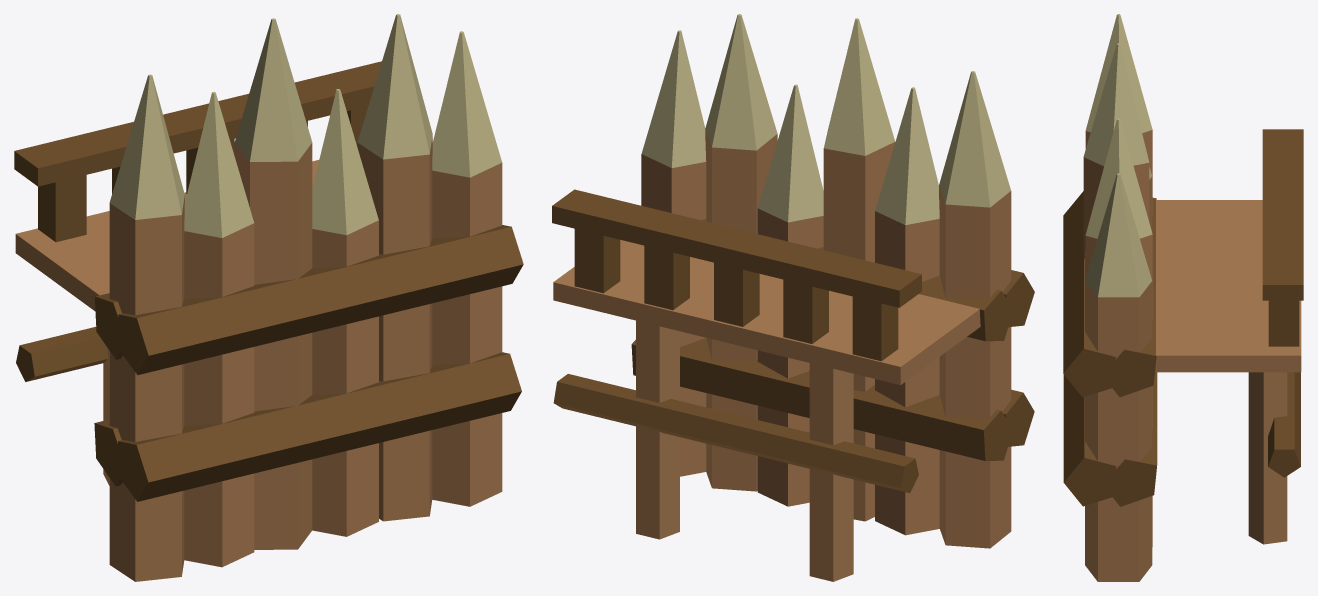
The model's file is WoodenWall2.fbx.
3 renders of one model, left to right at view 1: azimuth 30°, elevation 25°; view 2: azimuth 150°, elevation 25°; view 3: azimuth 270°, elevation 25°, orthographic. The views are drawn at different scales.
Parts seen in each view (by area): view 1: Cylinder.001, Cylinder.007, Cylinder.006, Cylinder.013, Cylinder, Cylinder.011, Cylinder.010, Cylinder.012, Cube.006, Cube, Cylinder.008, Cube.005 (+2 smaller); view 2: Cylinder.001, Cube, Cylinder, Cube.006, Cylinder.010, Cylinder.013, Cylinder.008, Cylinder.005, Cylinder.012, Cylinder.011, Cylinder.002, Cylinder.003 (+8 smaller); view 3: Cube, Cylinder.011, Cube.006, Cylinder.003, Cylinder.007, Cylinder.013, Cylinder.010, Cylinder.006, Cylinder.005, Cylinder.008, Cylinder.004, Cylinder.001 (+1 smaller).
Part boxes in pixels (<box>): Cylinder.001: <box>109,74,184,581</box>; Cylinder.007: <box>118,225,523,375</box>; Cylinder.006: <box>118,352,521,501</box>; Cylinder.013: <box>234,18,312,549</box>; Cylinder: <box>184,92,254,567</box>; Cylinder.011: <box>432,31,502,506</box>; Cylinder.010: <box>357,14,432,521</box>; Cylinder.012: <box>312,89,378,536</box>; Cube.006: <box>14,61,381,186</box>; Cube: <box>15,160,318,310</box>; Cylinder.008: <box>16,326,107,381</box>; Cube.005: <box>38,175,86,241</box>; Cylinder.001: <box>939,71,1011,548</box>; Cube: <box>553,240,980,384</box>; Cylinder: <box>875,87,939,535</box>; Cube.006: <box>552,189,921,307</box>; Cylinder.010: <box>705,14,777,491</box>; Cylinder.013: <box>823,18,895,521</box>; Cylinder.008: <box>553,374,918,492</box>; Cylinder.005: <box>631,338,1010,460</box>; Cylinder.012: <box>757,84,823,506</box>; Cylinder.011: <box>641,30,706,476</box>; Cylinder.002: <box>809,363,853,581</box>; Cylinder.003: <box>636,320,679,539</box>; Cube: <box>1155,200,1301,372</box>; Cylinder.011: <box>1085,173,1152,581</box>; Cube.006: <box>1262,129,1303,300</box>; Cylinder.003: <box>1248,372,1287,544</box>; Cylinder.007: <box>1063,191,1115,397</box>; Cylinder.013: <box>1083,43,1149,258</box>; Cylinder.010: <box>1085,118,1152,546</box>; Cylinder.006: <box>1063,374,1116,506</box>; Cylinder.005: <box>1102,372,1157,506</box>; Cylinder.008: <box>1268,372,1300,477</box>; Cylinder.004: <box>1112,197,1156,397</box>; Cylinder.001: <box>1085,14,1152,215</box>.
Size of the model in its own units: 610 by 803 by 392.
